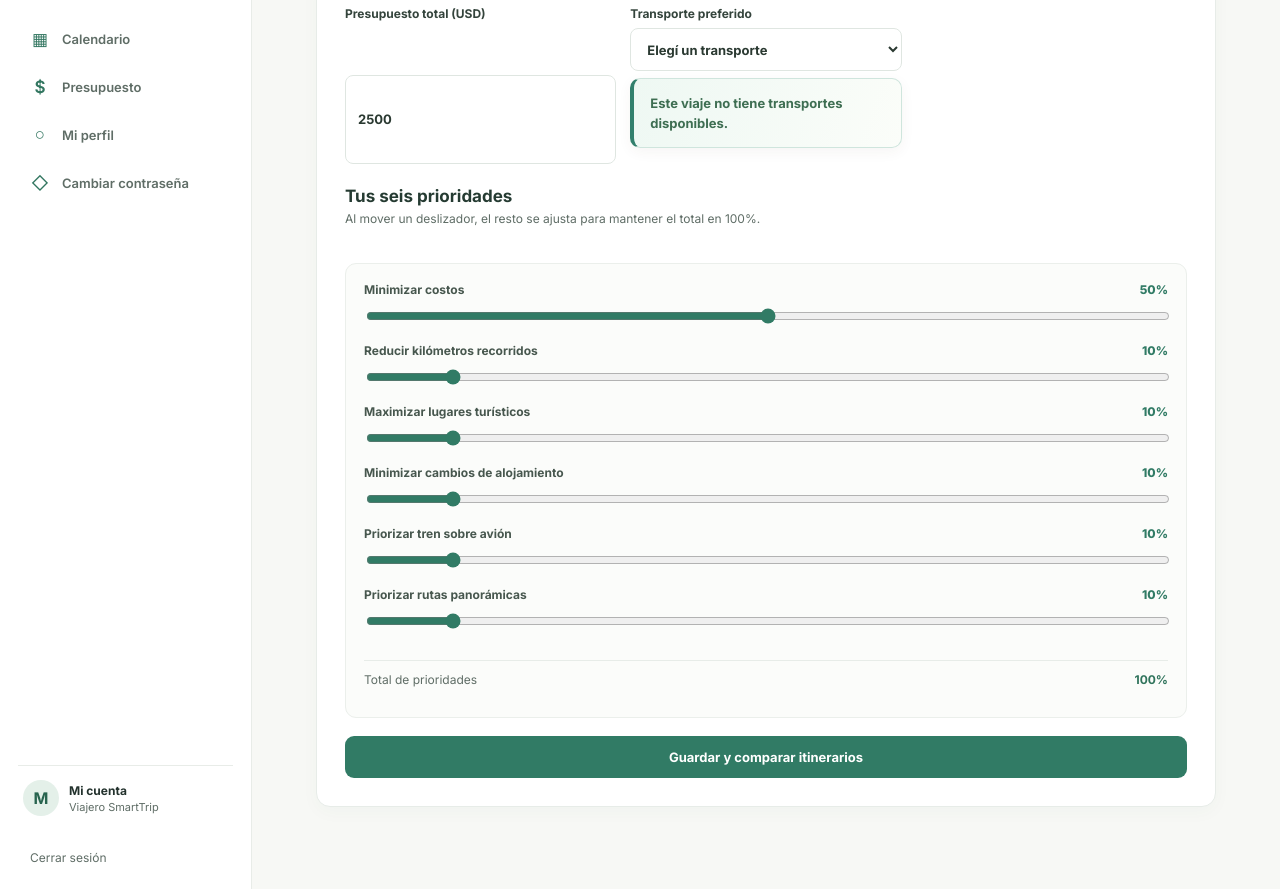
Test: BudgetPreferences › avisa si el viaje no tiene transportes y no guarda el que tenía
(page scrolled)
Expected: the text "Este viaje no tiene transportes disponibles." is shown, left=630, top=78, right=902, bottom=148
Click the button "Guardar y comparar itinerarios" at x=766, y=757, box left=345, top=736, right=1187, bottom=778
(page scrolled)
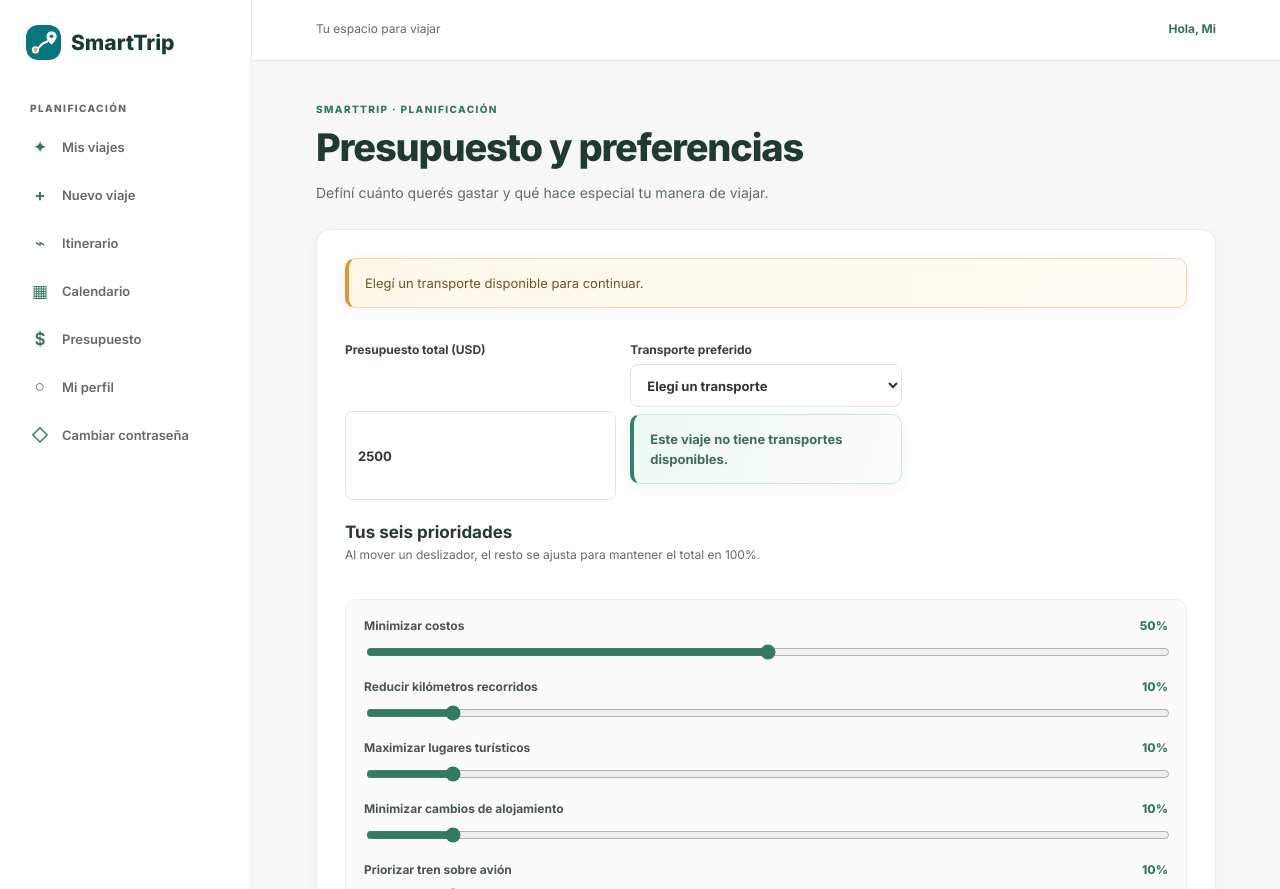
Now the message "Elegí un transporte disponible para continuar." is shown, box left=345, top=258, right=1187, bottom=308
